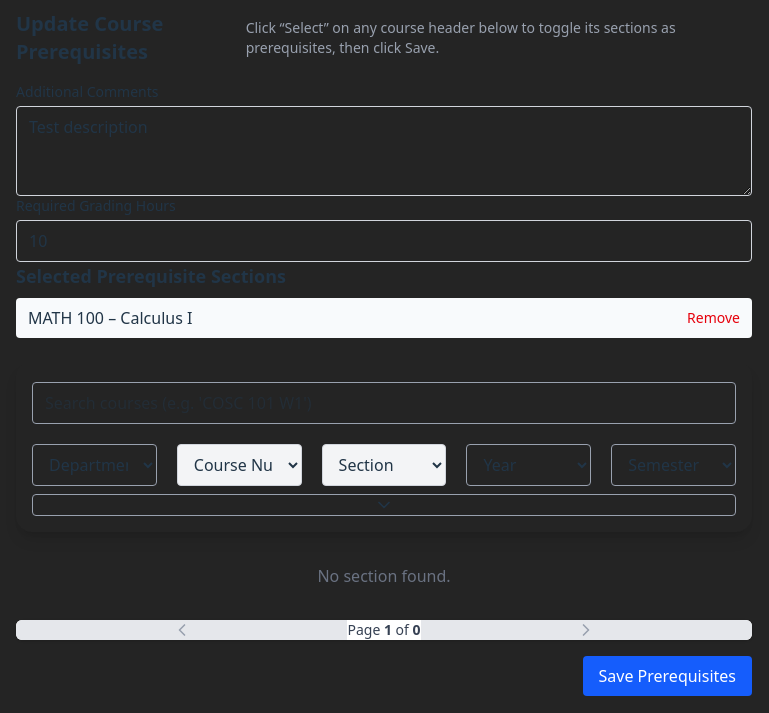
InstructorAddSectionPage › Prerequisite Management › removes prerequisite when remove button is clicked
The width and height of the screenshot is (769, 713).
Check: the text "MATH 100 – Calculus I" is shown, box [28,306,192,330]
Click the button "Remove" at (714, 318), box [687,308,740,328]
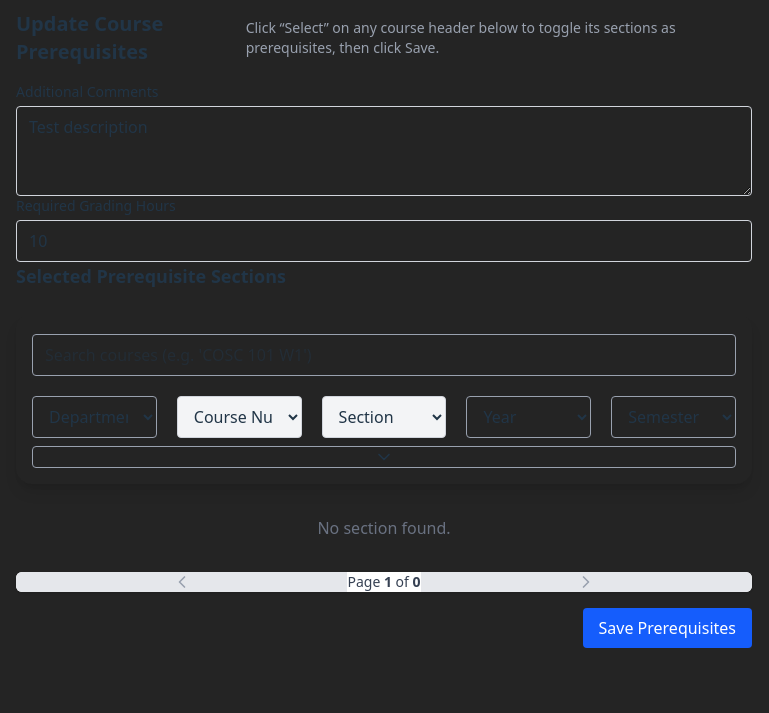
Check: the text "MATH 100 – Calculus I" is gone
